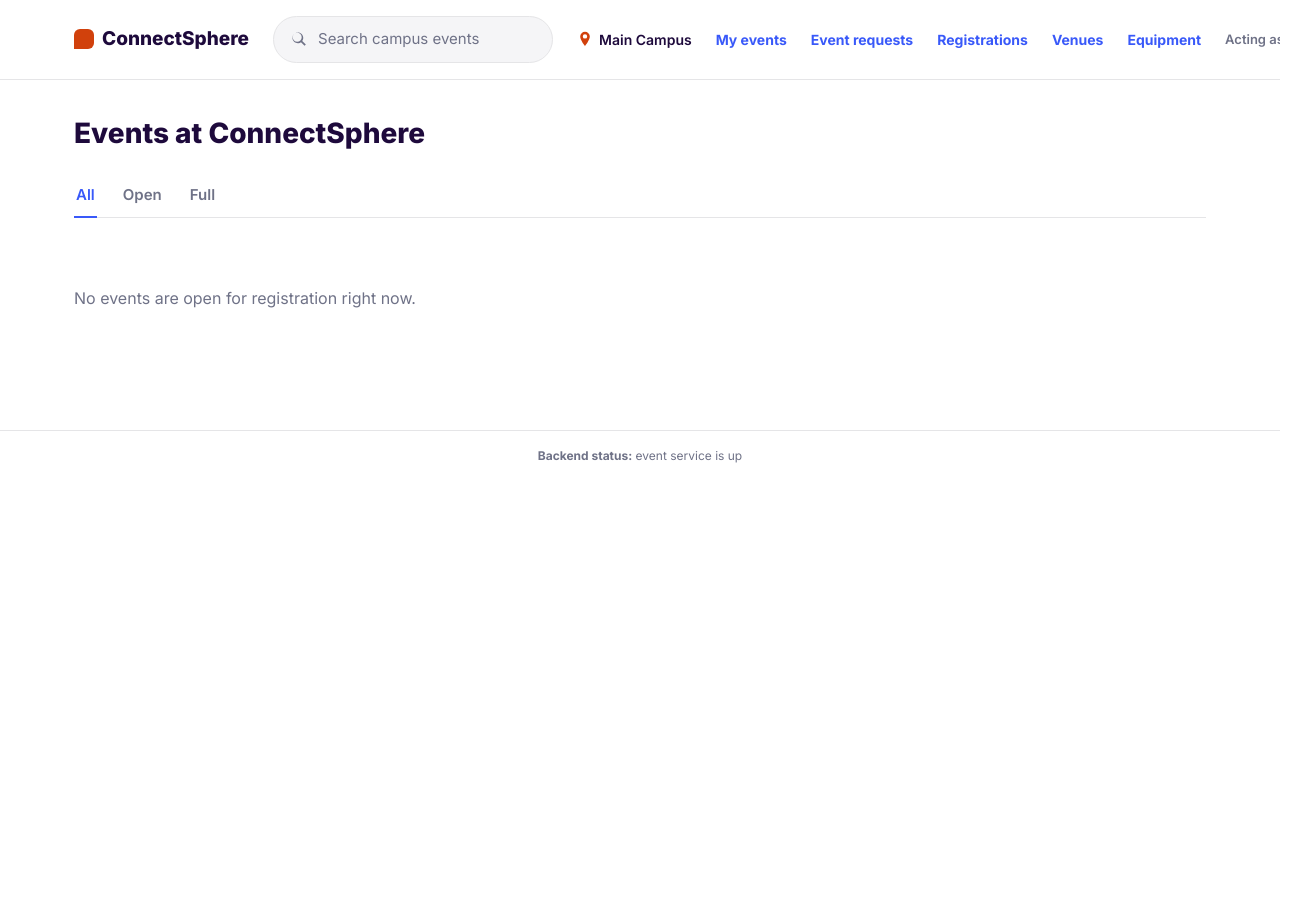
it: organiser: event requests (US1) › shows a submitted request's reference instead of the form (TC-US1-11)
Click the button "Event requests". click: (862, 39)
box: [811,29,913,50]
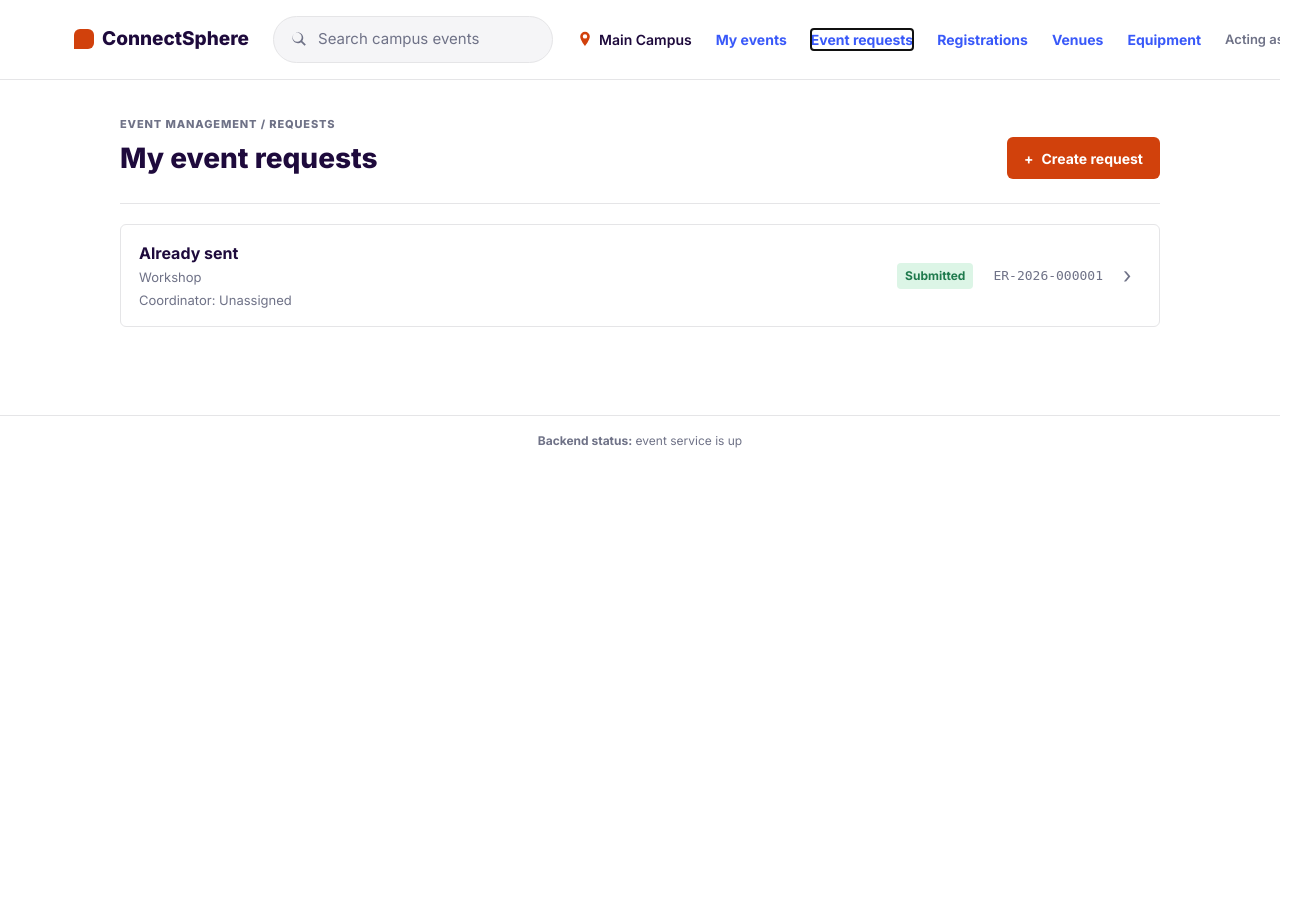
Click the button "Already sent". click: (189, 253)
box: [120,224,1160,327]
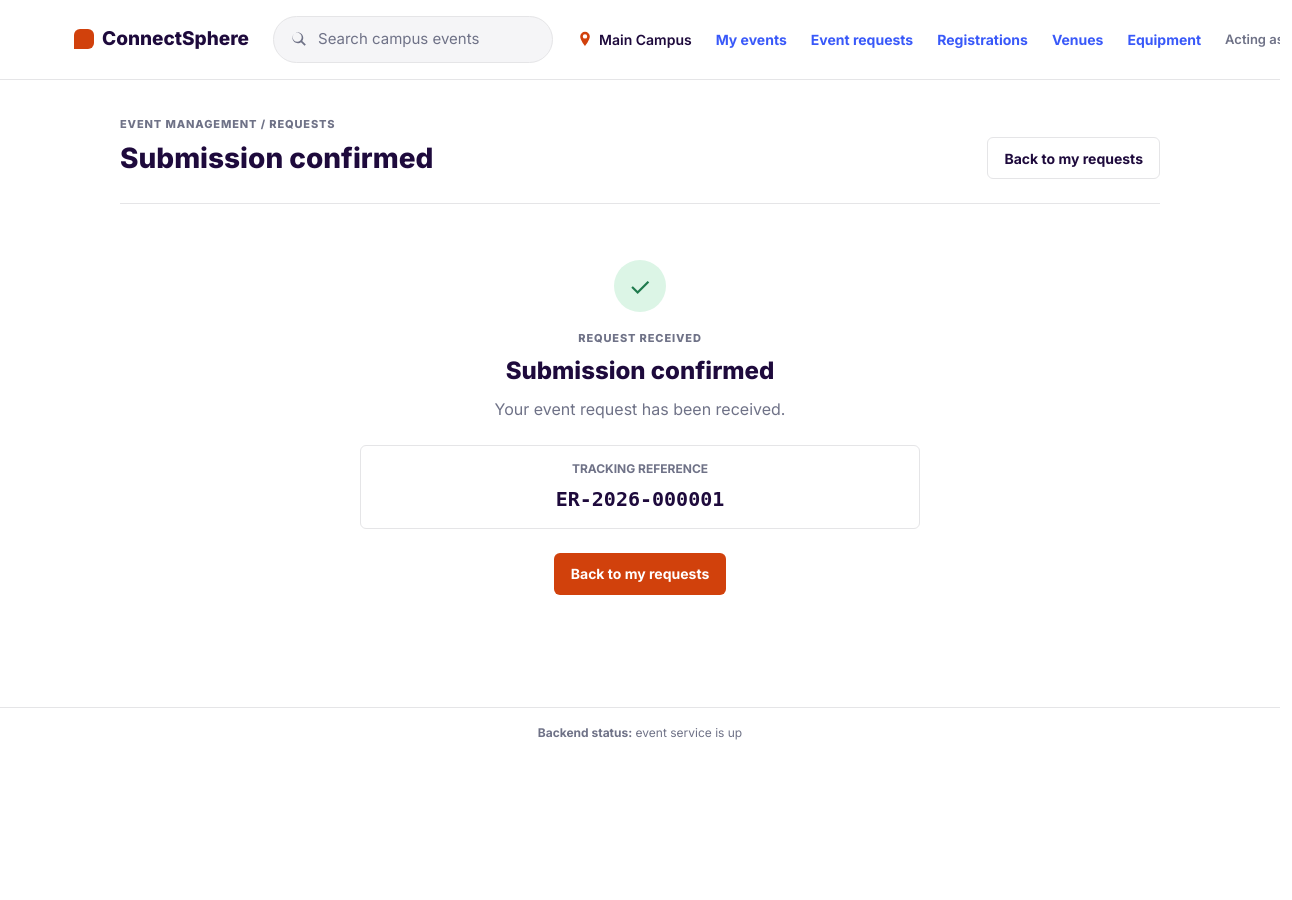
Expected: the heading "Submission confirmed" below "REQUEST RECEIVED" is shown, [506,356,774,384]
